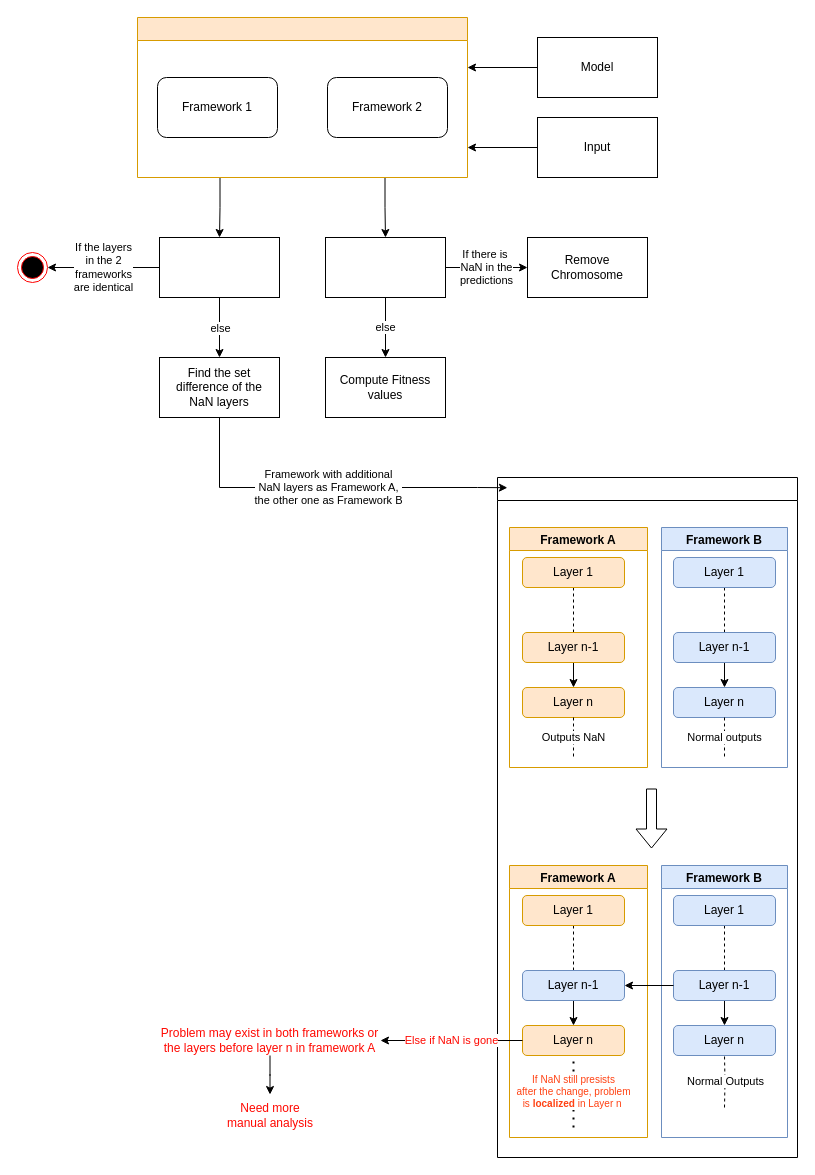
Some shapes in this 815 by 1175 pixel diagram are drawn without their labels. Each missing label, with the box of its shape:
Inconsistency detection phase: (136, 16, 468, 178)
Layers with NaN in the 2 frameworks: (158, 236, 280, 298)
NaN Inconsistency localization: (496, 476, 798, 1158)
Predictions from logit layers: (324, 236, 446, 298)
